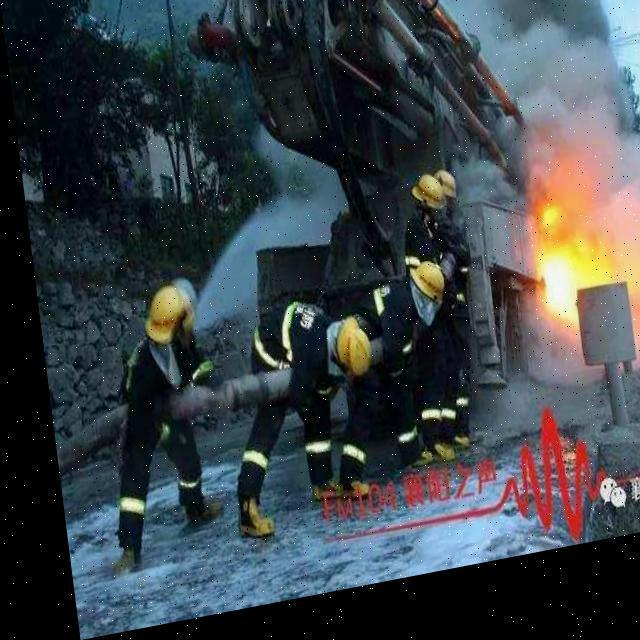Fire: (518, 210, 608, 346)
